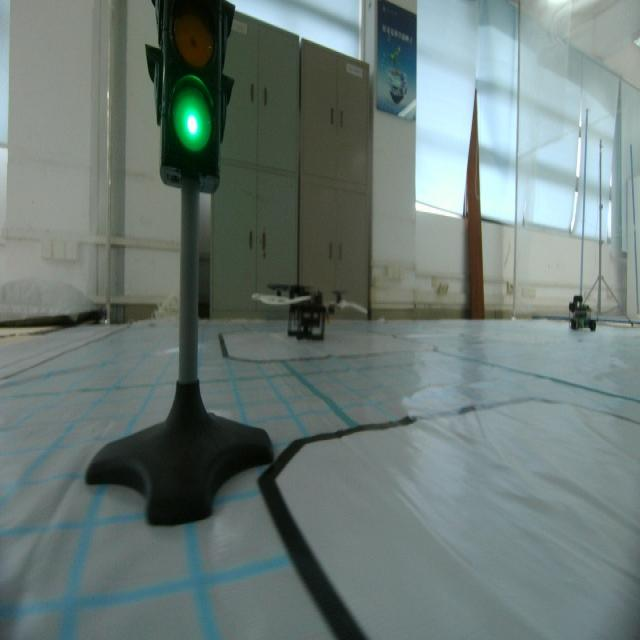green: (155, 0, 225, 181)
